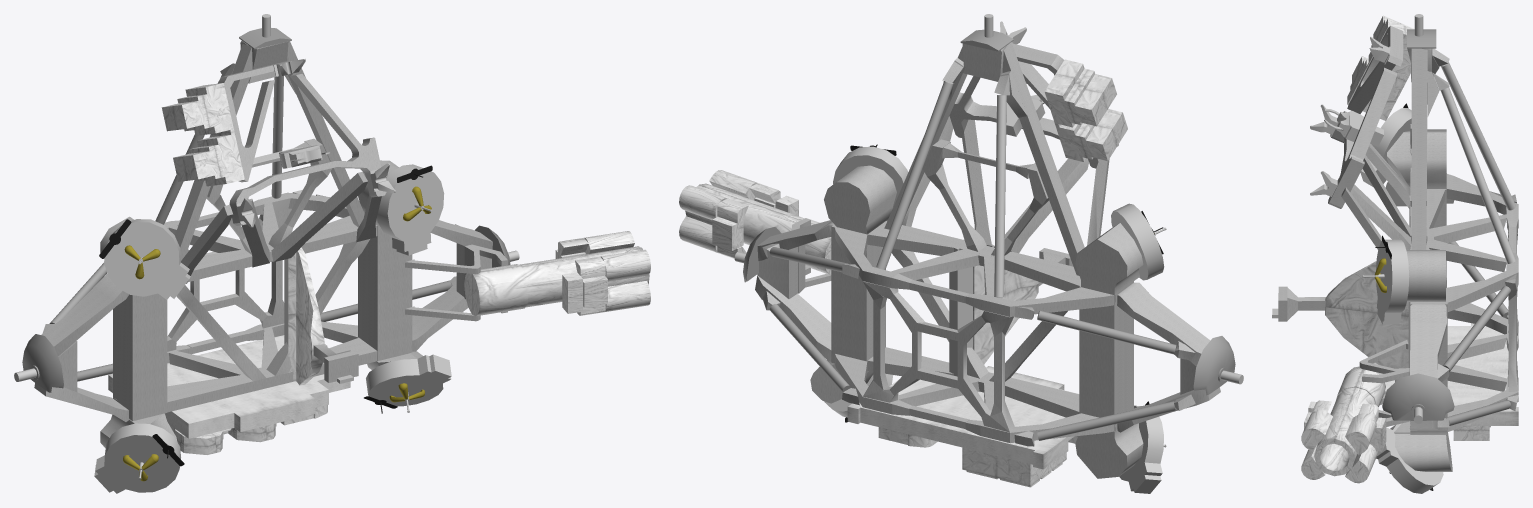
File: MBS.FBX
3 views of the same model, side by side, from view 1: azimuth 30°, elevation 25°; view 2: azimuth 150°, elevation 25°; view 3: azimuth 270°, elevation 25° (orthographic). The views are drawn at different scales.
Parts seen in each view (by area): view 1: mbs; view 2: mbs; view 3: mbs.
Boxes of the visible parts, x1=… form: mbs: x1=14, y1=14, x2=650, y2=493; mbs: x1=679, y1=14, x2=1243, y2=493; mbs: x1=1272, y1=14, x2=1518, y2=493.
Size of the model in its own units: 5.73 by 4.1 by 2.19.
Materials: 7 (3 with a texture image).
